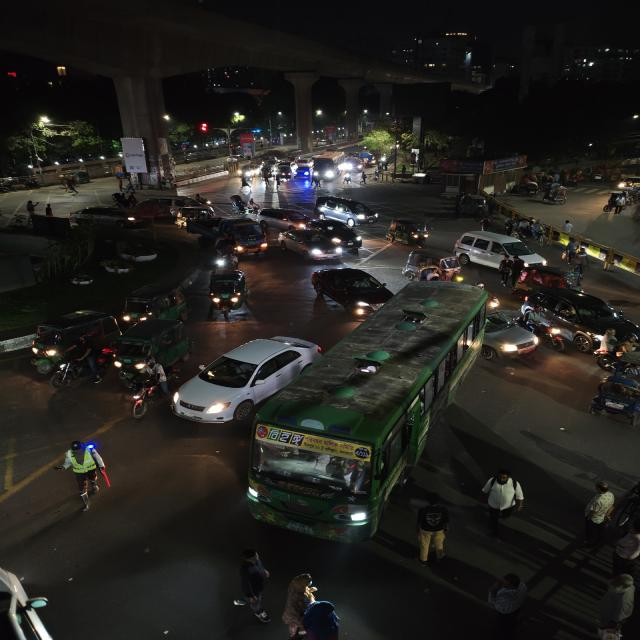bus: (244, 286, 483, 544), (312, 155, 340, 183)
car: (169, 331, 321, 426), (520, 286, 638, 352), (308, 264, 396, 318), (449, 228, 548, 268), (481, 311, 538, 363), (278, 228, 343, 262), (259, 206, 311, 228), (237, 162, 260, 180), (294, 162, 312, 180), (343, 159, 365, 172)
cng: (26, 311, 116, 363), (112, 317, 190, 373), (121, 285, 190, 322), (203, 268, 252, 320), (312, 194, 381, 226), (385, 217, 432, 249)
motorcycle: (282, 574, 345, 640), (44, 339, 107, 387), (118, 362, 168, 422), (592, 330, 634, 369), (497, 255, 527, 289), (207, 240, 239, 270), (228, 193, 246, 215), (245, 198, 260, 216), (341, 171, 353, 184)
pedestrian: (479, 464, 526, 534), (410, 494, 455, 566), (233, 546, 272, 628), (58, 449, 106, 514), (484, 570, 533, 630), (581, 482, 618, 542), (614, 496, 640, 576), (603, 571, 640, 625), (595, 618, 629, 640), (571, 246, 591, 277), (561, 218, 575, 242), (25, 200, 38, 216), (43, 202, 56, 217), (358, 170, 368, 183)
pickup_van: (188, 218, 272, 258)
rickshaw: (586, 375, 640, 429), (405, 260, 460, 282)
